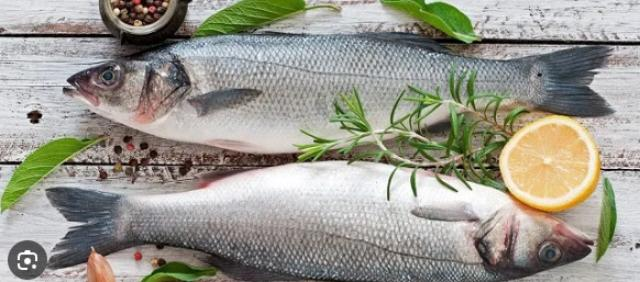Mulut: (42, 53, 102, 129), (557, 207, 611, 275)
Sirip Dada: (182, 79, 272, 123), (406, 192, 482, 236)
Sirip Ekor: (31, 172, 132, 280), (512, 31, 618, 132)
Sirip Punggung: (191, 236, 305, 282), (354, 18, 452, 70)
